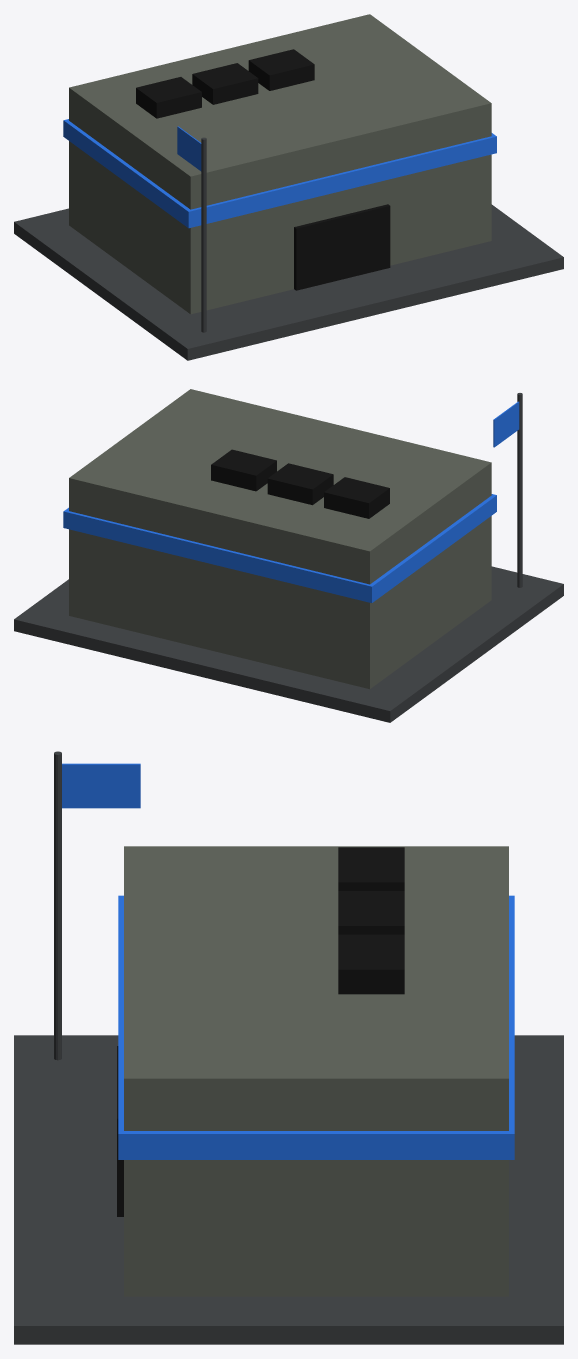
The model's file is eu_barracks.glb.
3 views of the same model, one above another, from view 1: azimuth 30°, elevation 25°; view 2: azimuth 150°, elevation 25°; view 3: azimuth 270°, elevation 25° (orthographic). The views are drawn at different scales.
Parts seen in each view (by area): view 1: main, base, team_band, door, vent_0, vent_2, vent_1, flagpole, flag; view 2: main, base, team_band, vent_0, vent_1, vent_2, flagpole, flag; view 3: main, base, team_band, vent_2, flag, vent_0, vent_1, flagpole.
Part boxes in pixels (<box>): main: <box>69,14,491,314</box>; base: <box>14,204,563,360</box>; team_band: <box>63,119,496,228</box>; door: <box>294,204,390,290</box>; vent_0: <box>136,77,201,118</box>; vent_2: <box>248,49,314,90</box>; vent_1: <box>192,63,258,104</box>; flagpole: <box>201,137,206,332</box>; flag: <box>177,126,201,171</box>; main: <box>69,389,491,689</box>; base: <box>14,566,563,722</box>; team_band: <box>63,494,496,602</box>; vent_0: <box>324,477,389,518</box>; vent_1: <box>267,463,333,505</box>; vent_2: <box>211,449,276,491</box>; flagpole: <box>517,393,522,587</box>; flag: <box>493,401,519,447</box>; main: <box>124,846,508,1296</box>; base: <box>14,1035,563,1344</box>; team_band: <box>118,895,514,1159</box>; vent_2: <box>338,934,404,994</box>; flag: <box>62,763,140,808</box>; vent_0: <box>338,847,404,890</box>; vent_1: <box>338,891,404,934</box>; flagpole: <box>54,751,61,1060</box>.
Size of the model in its own units: 10 by 5.2 by 8.
